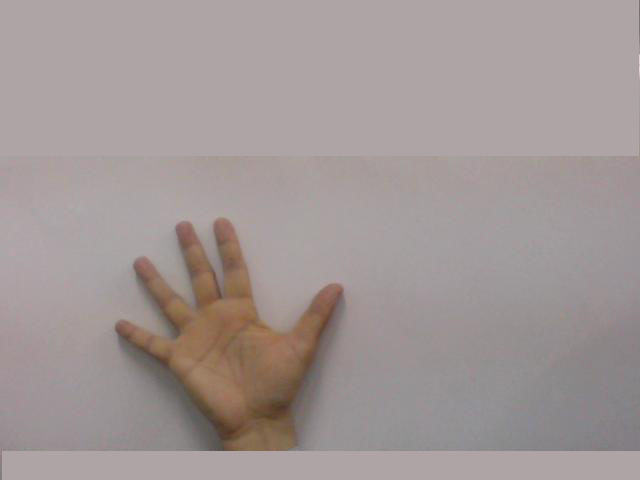hand: (109, 213, 351, 418)
